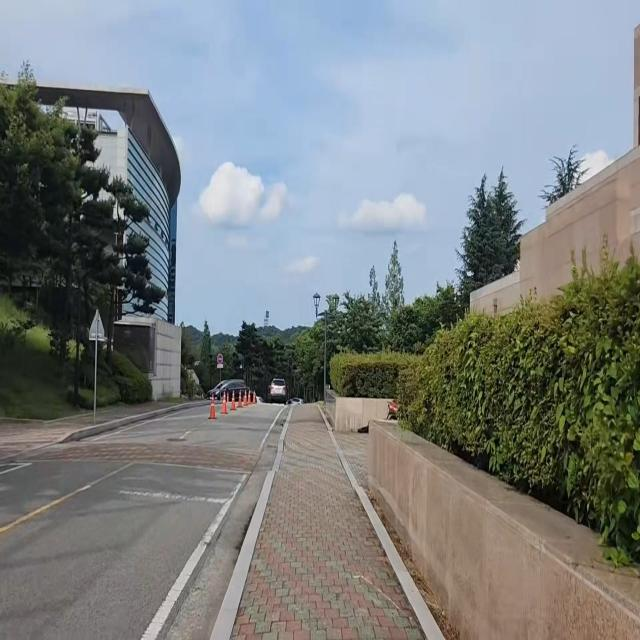obstacle: (268, 375, 290, 403)
road: (0, 399, 290, 640)
sidewalk: (207, 403, 458, 640)
